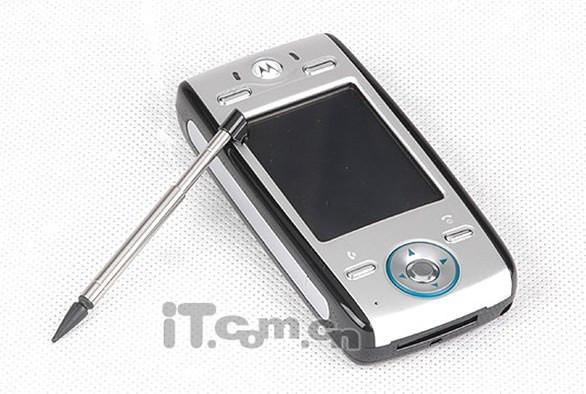phone: (183, 49, 523, 343)
